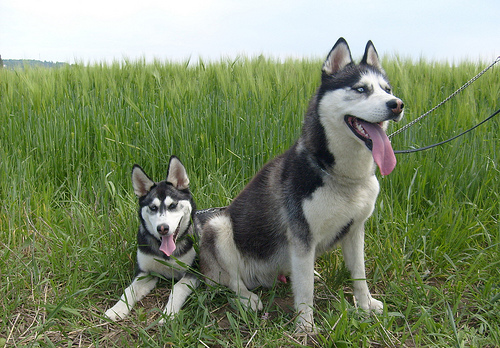dog: (201, 37, 403, 330), (104, 155, 202, 327)
